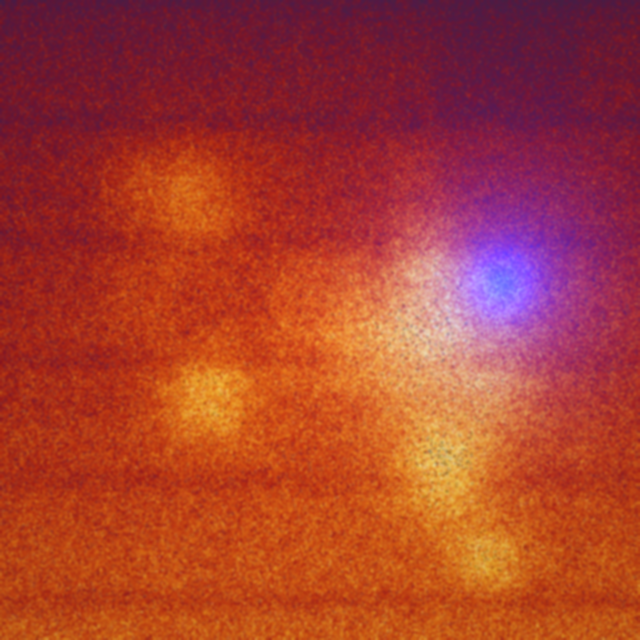nozzle: (467, 240, 564, 335)
